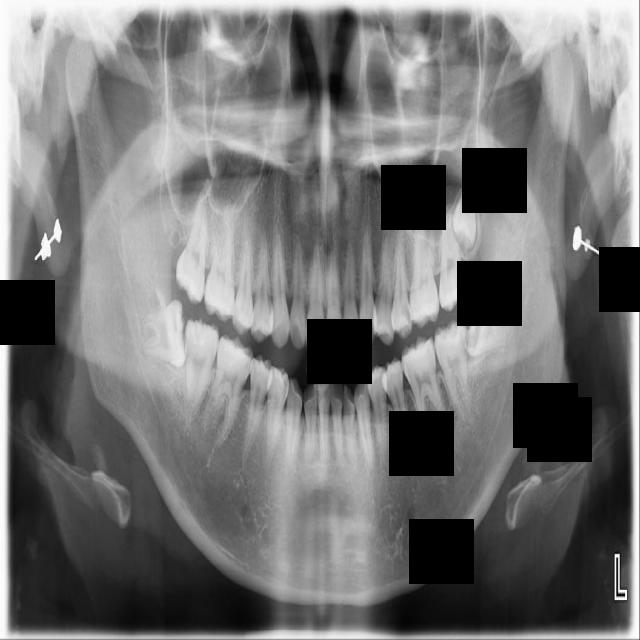73: (591, 562, 599, 570)
BioHorizons Implant: (438, 209, 470, 315)
BioLife Implant: (453, 186, 477, 252)
Biomet 3i Implant: (463, 285, 515, 361)
Blue Sky Bio Implant: (433, 319, 472, 421)
Caries: (173, 194, 213, 304)
Implant: (184, 317, 219, 417)
Keystone Dental Implant: (138, 299, 189, 369)
